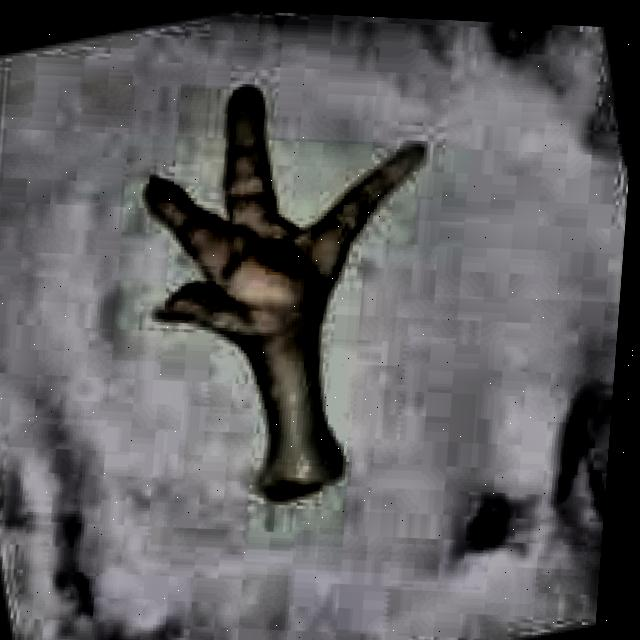Bumble foot: (129, 76, 438, 506), (259, 236, 307, 267)
